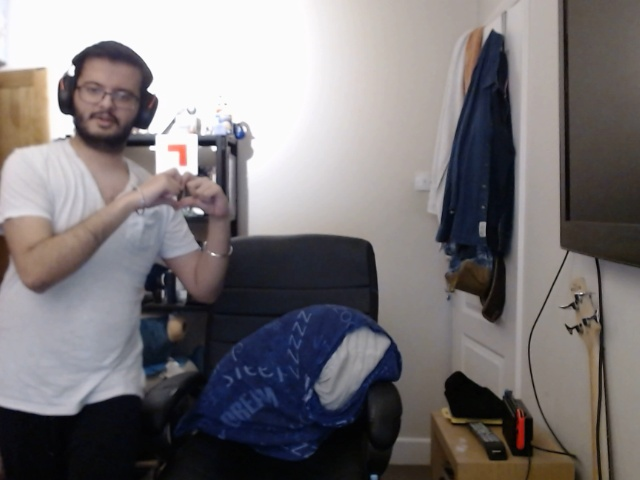Heart: (116, 160, 234, 228)
